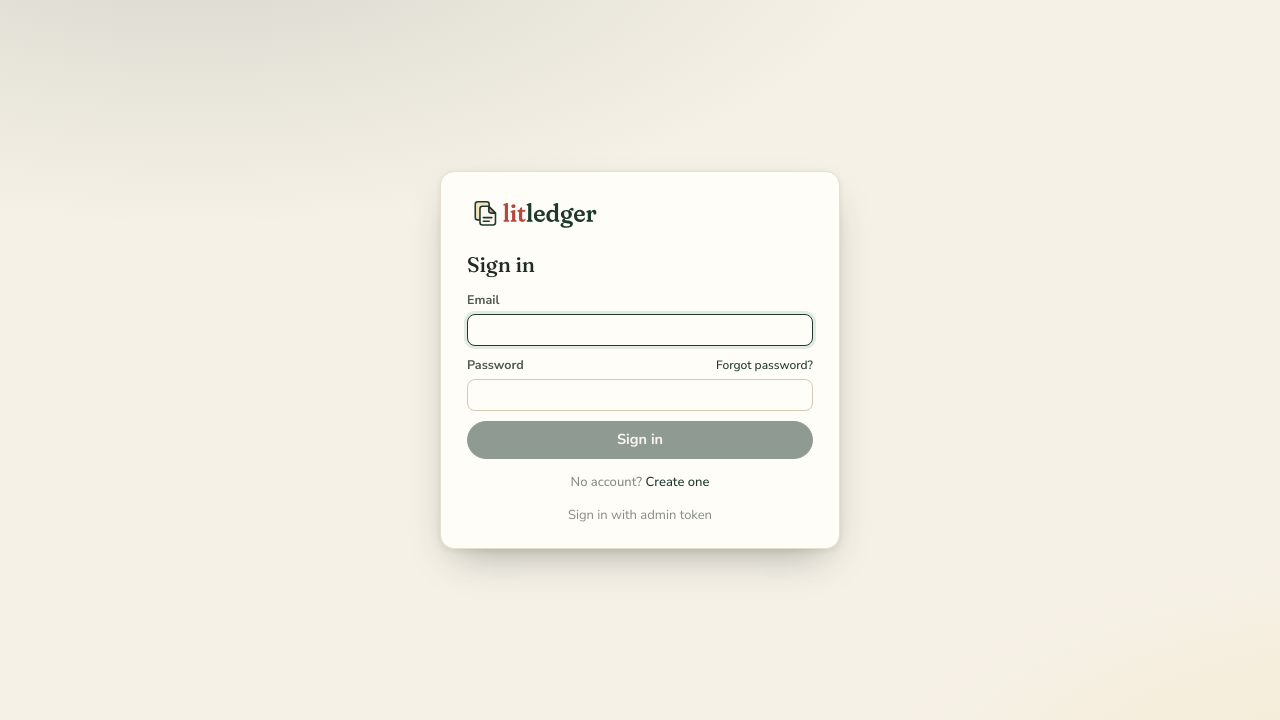
Test: sign-in errors › says a wrong password plainly and stays on the page
In the field labelled "Email": x=640, y=330 [467,314,813,346], type "ada@example.com"
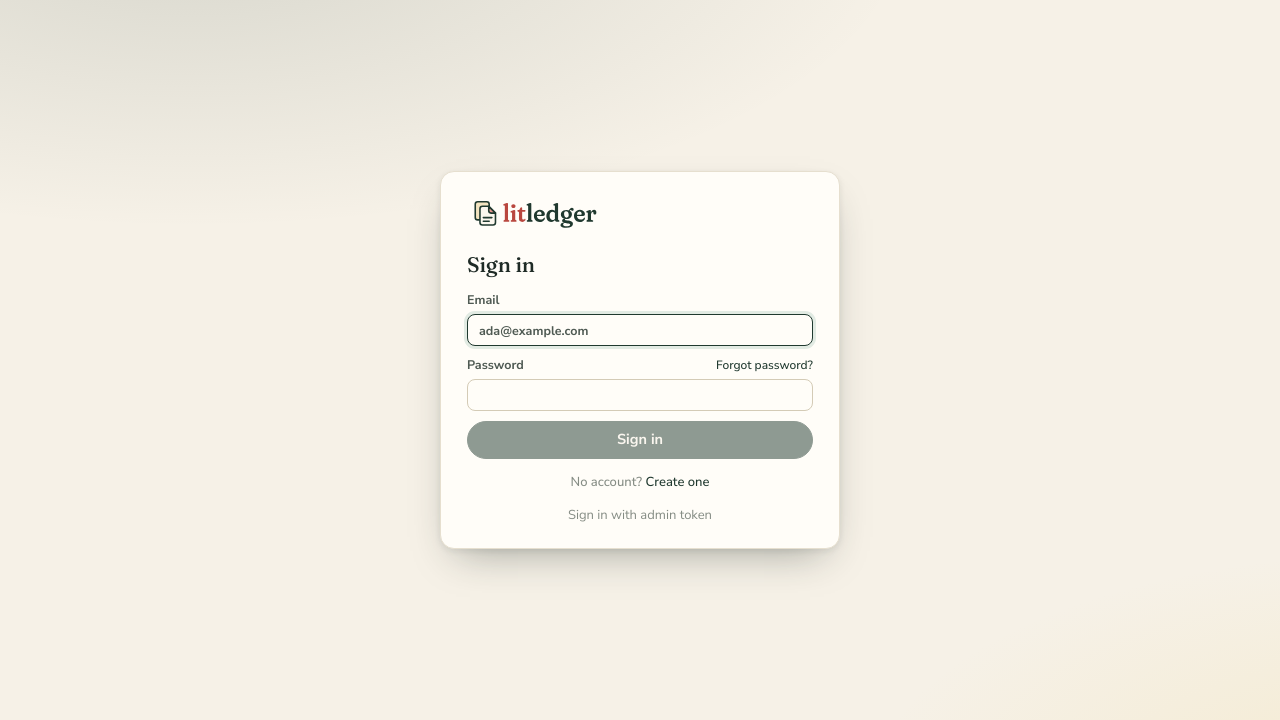
In the password field labelled "Password": x=640, y=395 [467,379,813,411], type "not the password"
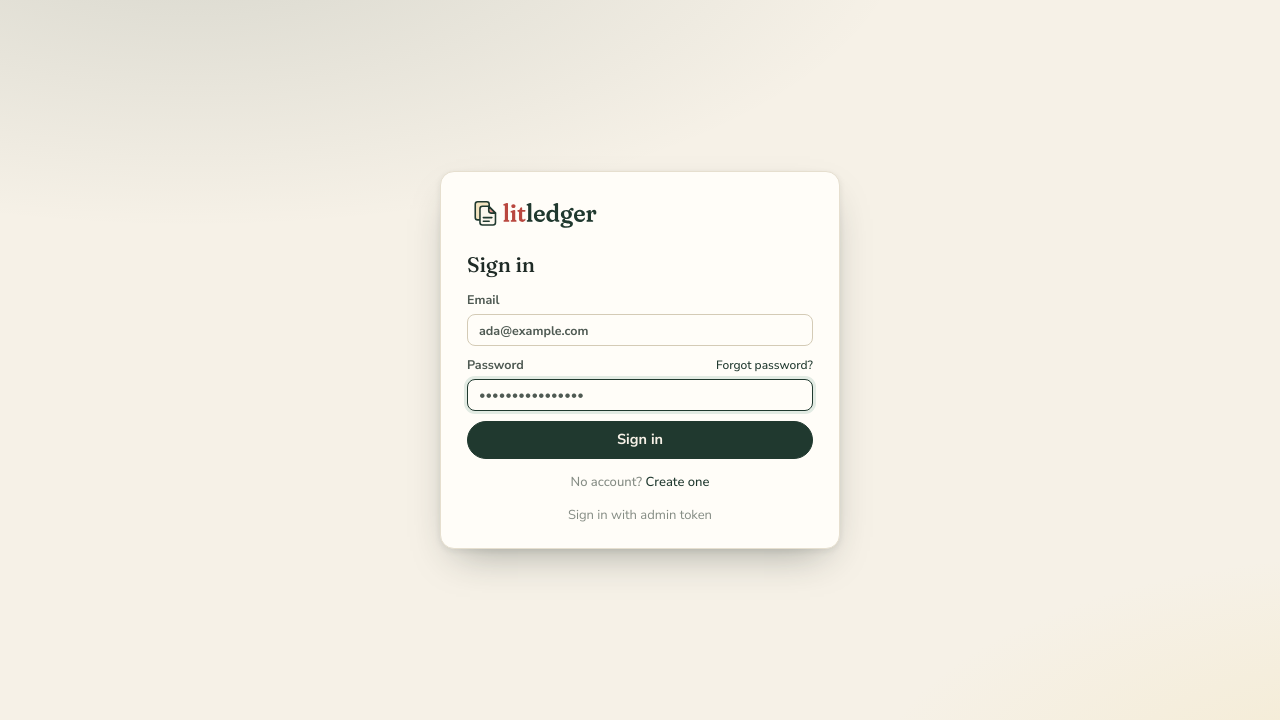
Click the button "Sign in": x=640, y=440 [467,421,813,459]
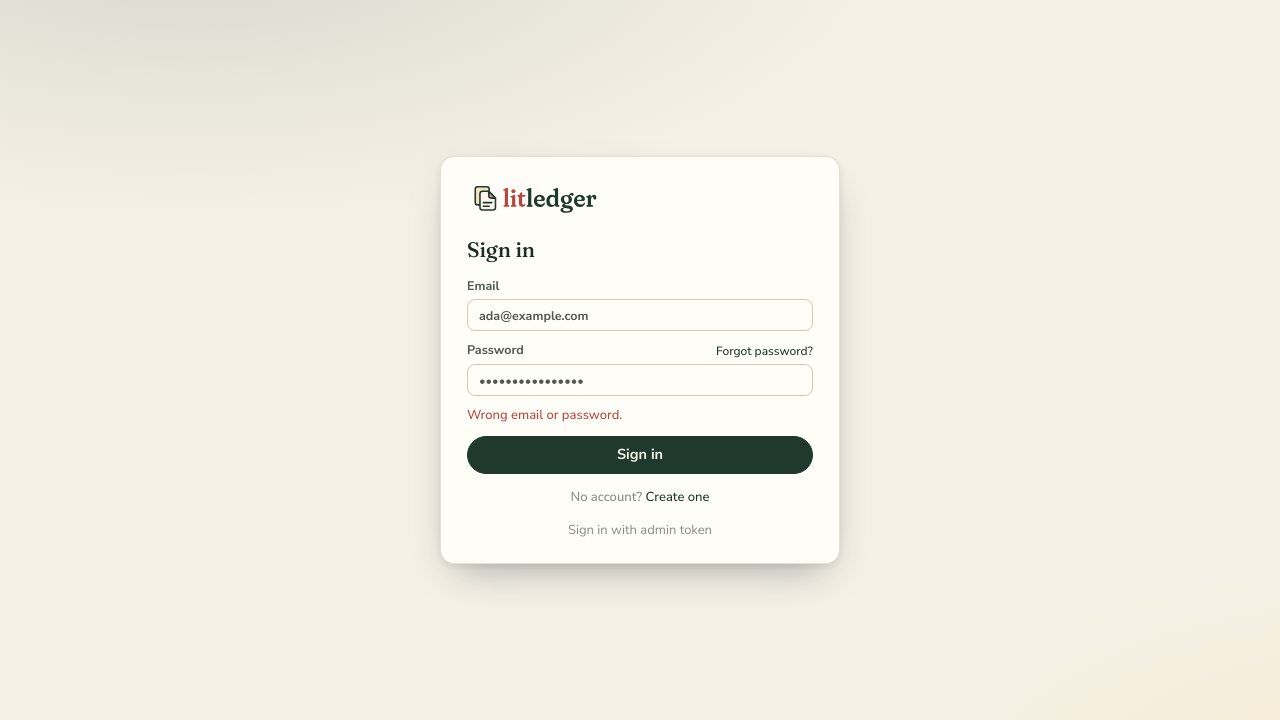
Now the button "Sign in" is enabled, box [467,436,813,474]
Now the message reads "Wrong email or password.", box [467,406,622,424]
